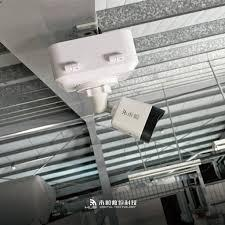Monitor: (48, 32, 179, 162)
